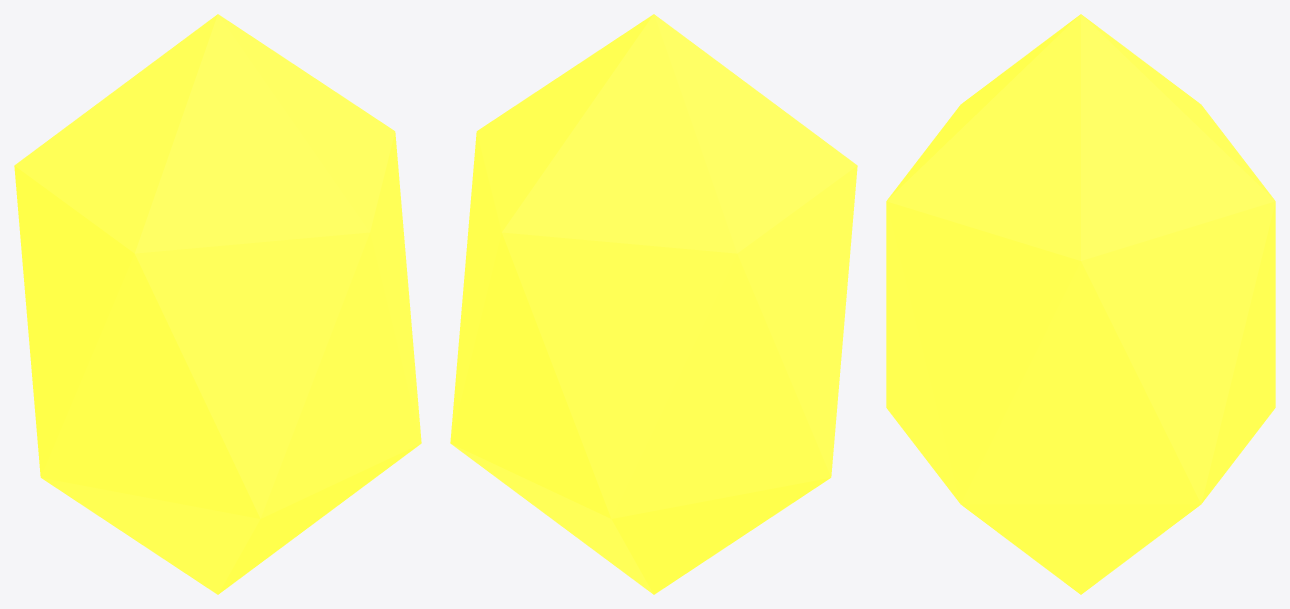
File: find_meteorite.fbx
3 views of the same model, side by side, from view 1: azimuth 30°, elevation 25°; view 2: azimuth 150°, elevation 25°; view 3: azimuth 270°, elevation 25° (orthographic).
Visible parts, largest first — view 1: find_meteorite; view 2: find_meteorite; view 3: find_meteorite.
Part boxes in pixels (<box>): find_meteorite: <box>14,14,421,594</box>; find_meteorite: <box>450,14,857,594</box>; find_meteorite: <box>886,14,1275,594</box>.
Bounding box in the file's own units: 1.79 × 2.8 × 1.7.
